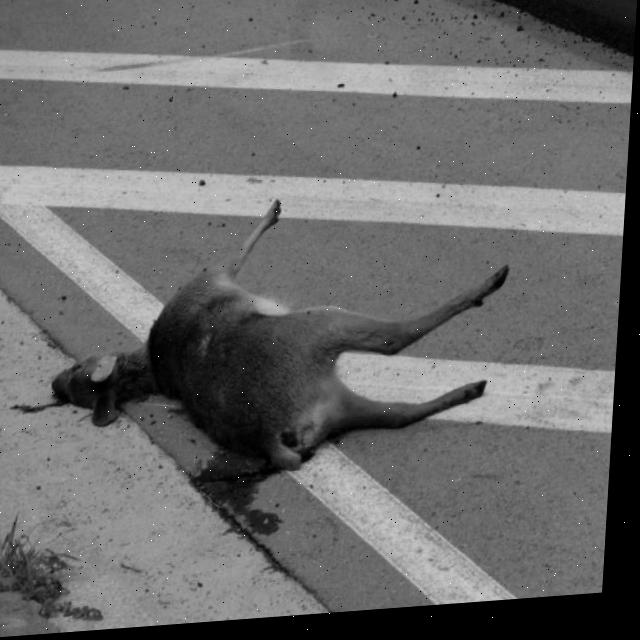Deer: (7, 167, 532, 522)
